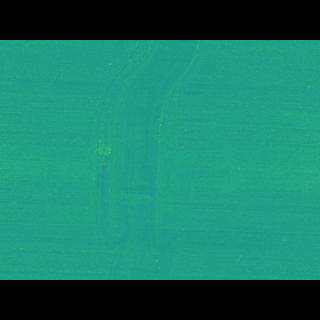Loch: (80, 70, 226, 250)
